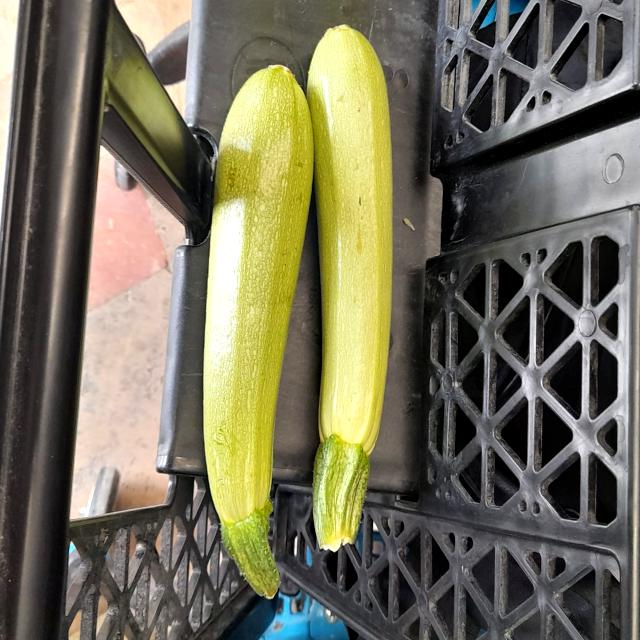zucchini: (200, 58, 318, 600), (302, 23, 396, 550)
